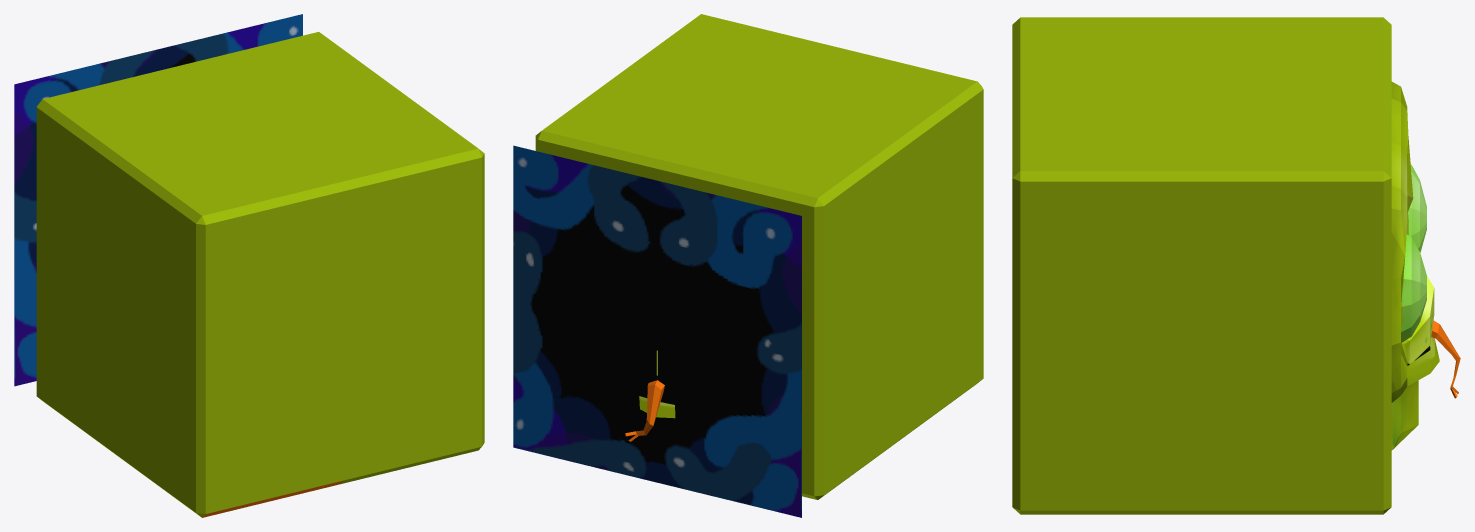
File: Block Assets Medusa.fbx
3 renders of one model, left to right at view 1: azimuth 30°, elevation 25°; view 2: azimuth 150°, elevation 25°; view 3: azimuth 270°, elevation 25°, orthographic. The views are drawn at different scales.
Visible parts, largest first — view 1: Block Medusa, Medusa Plane; view 2: Block Medusa, Medusa Plane; view 3: Block Medusa.
Boxes of the visible parts, x1,y1,x2,y2 form: Block Medusa: [36, 32, 484, 517]; Medusa Plane: [14, 14, 302, 386]; Block Medusa: [535, 14, 983, 499]; Medusa Plane: [513, 145, 801, 517]; Block Medusa: [1012, 17, 1460, 514].
Size of the model in its own units: 1 by 1 by 1.18.
